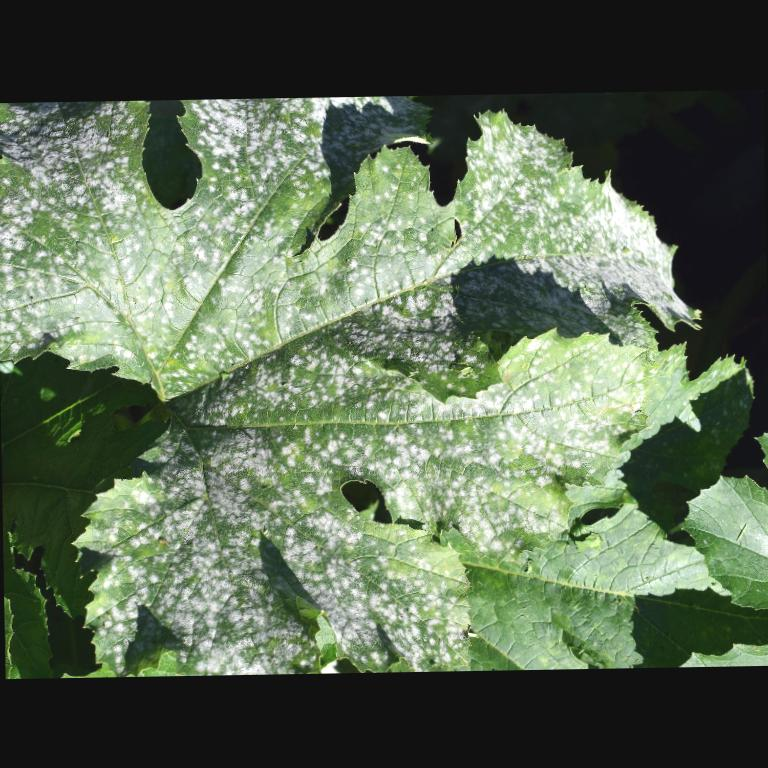powdery-mildew: (304, 528, 461, 652), (20, 124, 139, 238), (156, 520, 262, 638), (385, 428, 530, 513), (210, 108, 316, 200)
